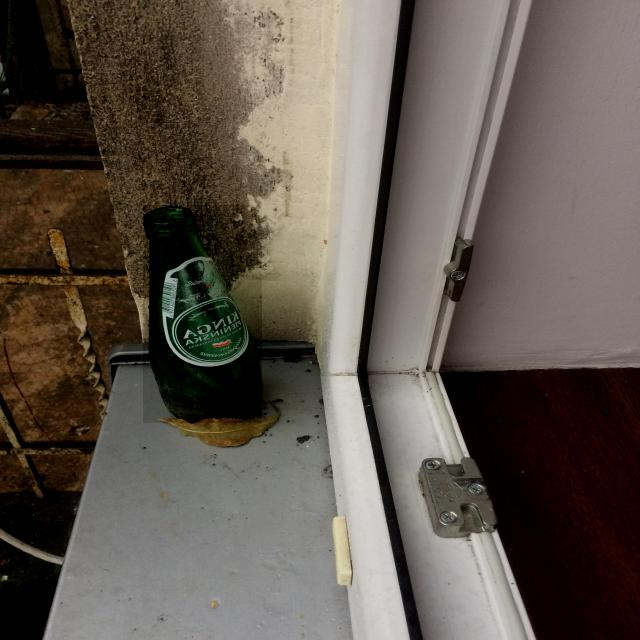Glass bottle: (143, 206, 262, 423)
